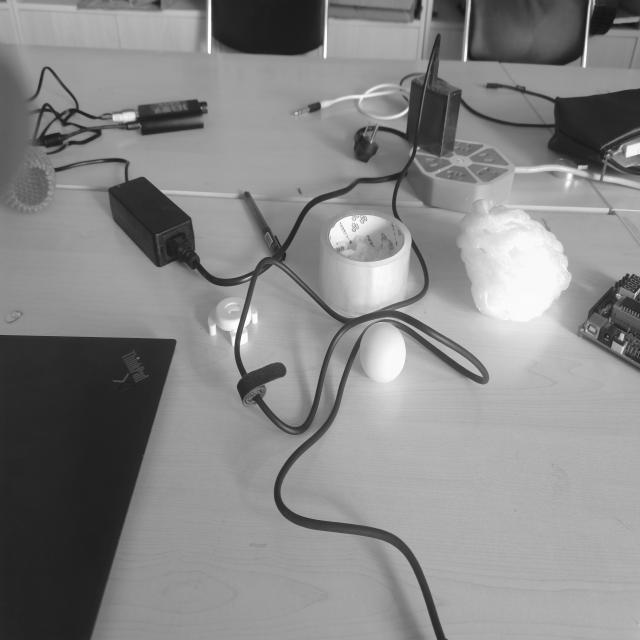ping-pong-ball: (359, 322, 406, 384)
